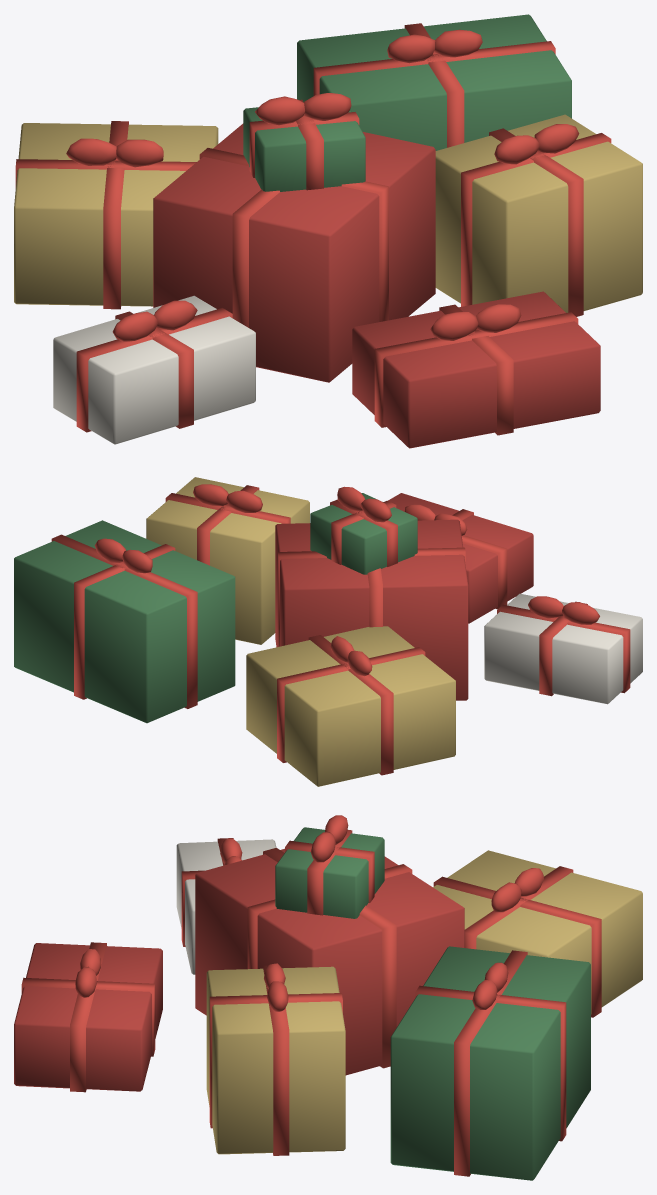
Rendered from presents_b.glb.
3 renders of one model, top to bottom at view 1: azimuth 30°, elevation 25°; view 2: azimuth 150°, elevation 25°; view 3: azimuth 270°, elevation 25°, orthographic. The views are drawn at different scales.
Parts seen in each view (by area): view 1: presents_b; view 2: presents_b; view 3: presents_b.
Boxes of the visible parts, <box> form: presents_b: <box>14,14,642,448</box>; presents_b: <box>14,477,642,786</box>; presents_b: <box>14,815,642,1180</box>.
Bounding box in the file's own units: 1.22 × 0.4238 × 1.17.
